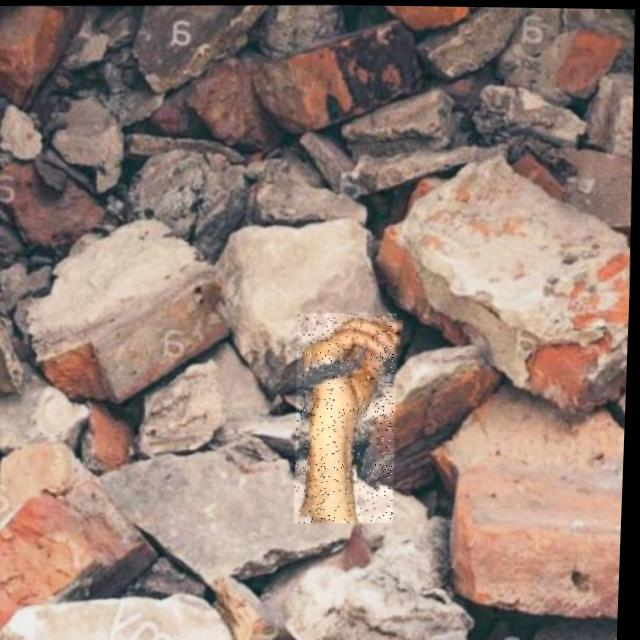Person in Rubble: (293, 310, 403, 523)
